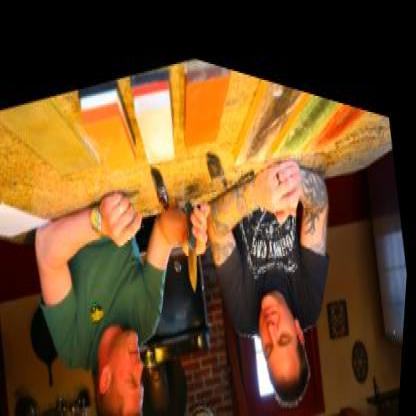knife: (176, 183, 222, 295)
